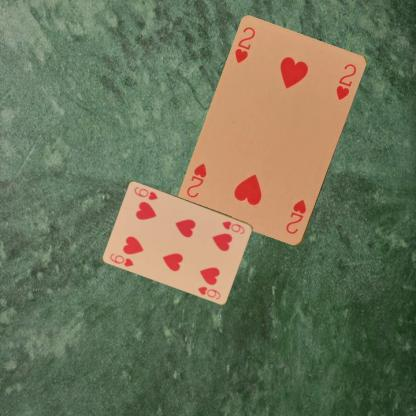2h: (232, 25, 257, 66), (283, 197, 307, 236)
6h: (108, 251, 135, 268), (220, 218, 246, 235)
